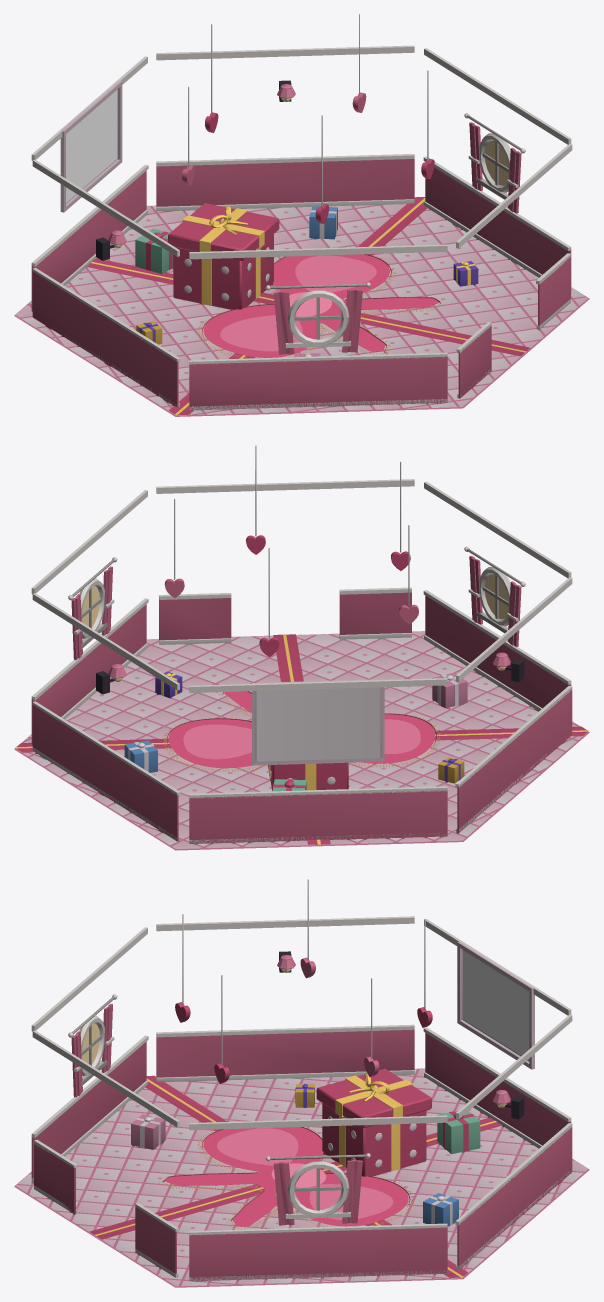
Rendered from zon_room_gift_lite.glb.
3 renders of one model, top to bottom at view 1: azimuth 30°, elevation 25°; view 2: azimuth 150°, elevation 25°; view 3: azimuth 270°, elevation 25°, orthographic.
Parts seen in each view (by area): view 1: SM_zon_room_gift_lite_room_floor_plaster_xm1_zm1, SM_zon_room_gift_lite_room_rug_fabric_xm1_zm1, ANIM_fur_present_gift_lite_lid__0, SCREEN_fur_screen_gift__0, SM_zon_room_gift_lite_room_floor_gloss_xm1_zm1, SM_zon_room_gift_lite_glow_vc_xm1_zm1; view 2: SM_zon_room_gift_lite_room_floor_plaster_xm1_zm1, SM_zon_room_gift_lite_room_rug_fabric_xm1_zm1, SM_zon_room_gift_lite_glow_vc_xm1_zm1, SM_zon_room_gift_lite_room_floor_gloss_xm1_zm1; view 3: SM_zon_room_gift_lite_room_floor_plaster_xm1_zm1, SM_zon_room_gift_lite_room_rug_fabric_xm1_zm1, SCREEN_fur_screen_gift__0, ANIM_fur_present_gift_lite_lid__0, SM_zon_room_gift_lite_room_floor_gloss_xm1_zm1.
Part boxes in pixels (left/top/right/bottom): SM_zon_room_gift_lite_room_floor_plaster_xm1_zm1: left=14, top=14, right=589, bottom=416; SM_zon_room_gift_lite_room_rug_fabric_xm1_zm1: left=198, top=254, right=443, bottom=358; ANIM_fur_present_gift_lite_lid__0: left=168, top=203, right=279, bottom=260; SCREEN_fur_screen_gift__0: left=66, top=89, right=117, bottom=202; SM_zon_room_gift_lite_room_floor_gloss_xm1_zm1: left=91, top=198, right=526, bottom=415; SM_zon_room_gift_lite_glow_vc_xm1_zm1: left=112, top=98, right=508, bottom=248; SM_zon_room_gift_lite_room_floor_plaster_xm1_zm1: left=14, top=445, right=589, bottom=850; SM_zon_room_gift_lite_room_rug_fabric_xm1_zm1: left=162, top=691, right=440, bottom=771; SM_zon_room_gift_lite_glow_vc_xm1_zm1: left=81, top=574, right=508, bottom=681; SM_zon_room_gift_lite_room_floor_gloss_xm1_zm1: left=15, top=634, right=588, bottom=844; SM_zon_room_gift_lite_room_floor_plaster_xm1_zm1: left=14, top=879, right=589, bottom=1287; SM_zon_room_gift_lite_room_rug_fabric_xm1_zm1: left=159, top=1127, right=414, bottom=1229; SCREEN_fur_screen_gift__0: left=462, top=950, right=529, bottom=1060; ANIM_fur_present_gift_lite_lid__0: left=316, top=1068, right=431, bottom=1128; SM_zon_room_gift_lite_room_floor_gloss_xm1_zm1: left=94, top=1078, right=496, bottom=1277.
Size of the model in its own units: 9.53 by 5 by 10.57.
